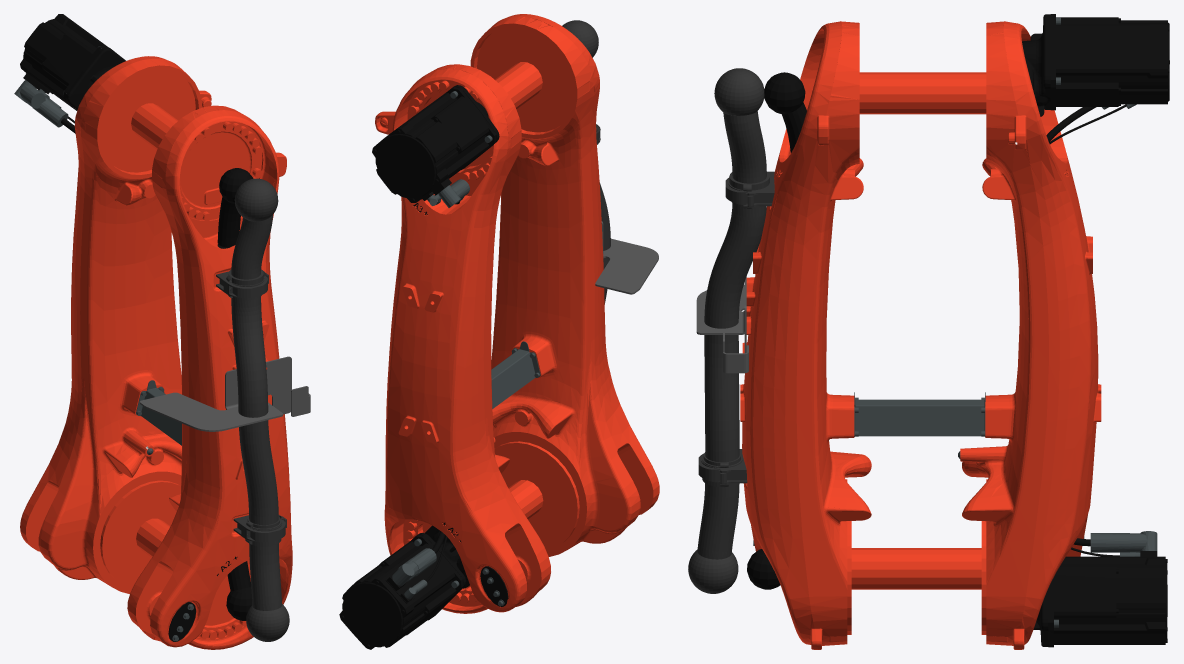
3 views of the same model, side by side, from view 1: azimuth 30°, elevation 25°; view 2: azimuth 150°, elevation 25°; view 3: azimuth 270°, elevation 25° (orthographic). The views are drawn at different scales.
Parts seen in each view (by area): view 1: link_2; view 2: link_2; view 3: link_2.
Boxes of the visible parts, x1,y1,x2,y2 form: link_2: (14,14,310,649); link_2: (339,14,659,649); link_2: (688,14,1169,649).
Size of the model in its own units: 0.531 by 1.15 by 1.61.
